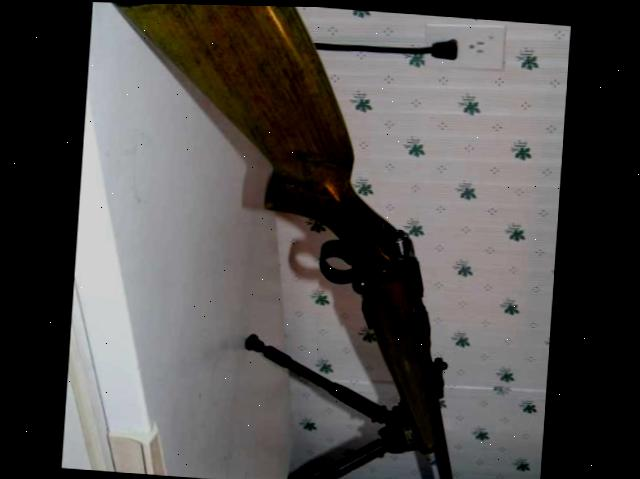rifle: (68, 1, 540, 479)
